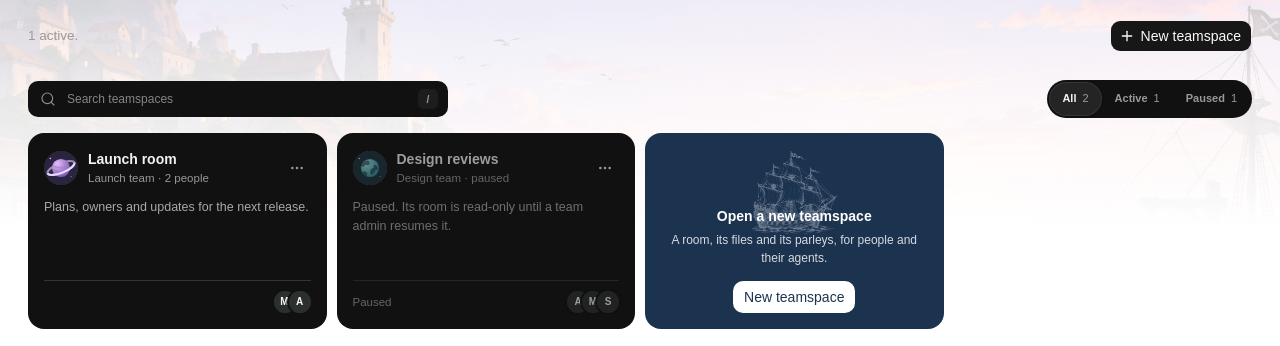
TeamspacesManagement list › offers pause and delete in the More menu only to who manages it
The width and height of the screenshot is (1280, 346).
Click the button named "More for Launch room" at x=296, y=168, box [282,154,310,182]
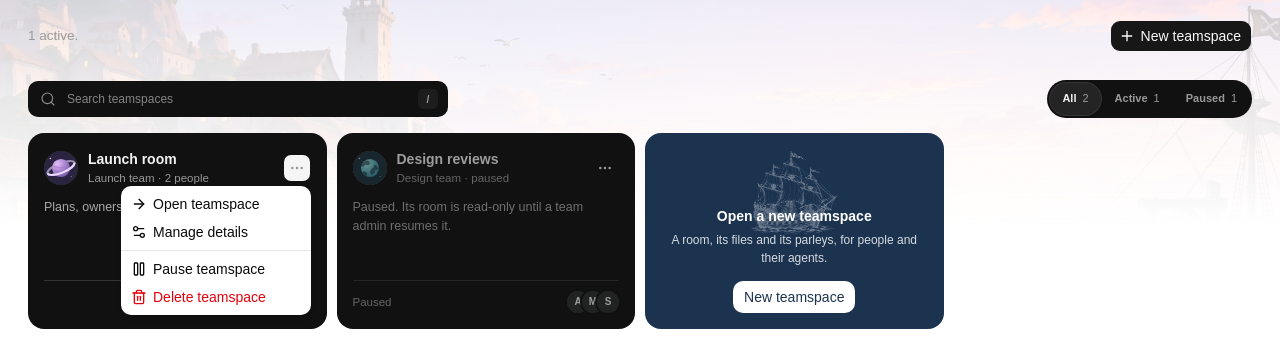
Expected: the menu items read "Open teamspace", "Manage details", "Pause teamspace", "Delete teamspace", in this order
Press Escape in the menu item "Open teamspace", box [131,196,260,212]
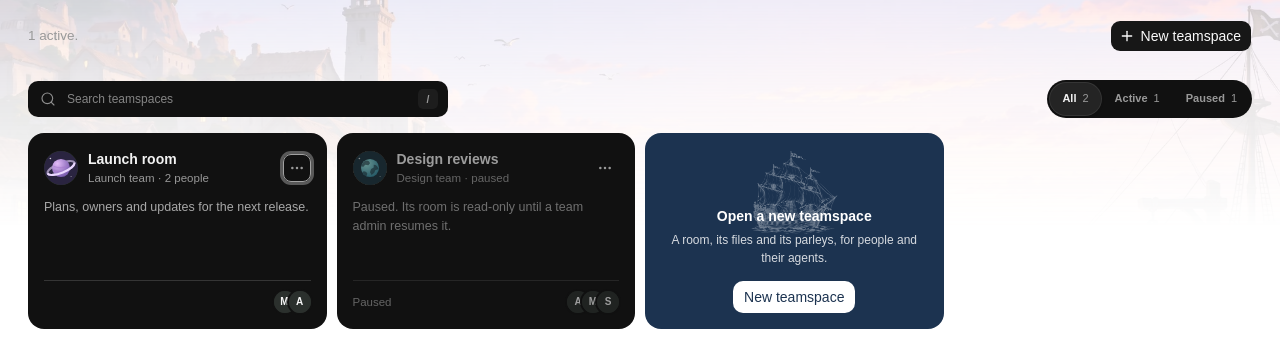
Expected: the menu is gone
Click the button named "More for Design reviews" at x=605, y=168, box [591,154,619,182]
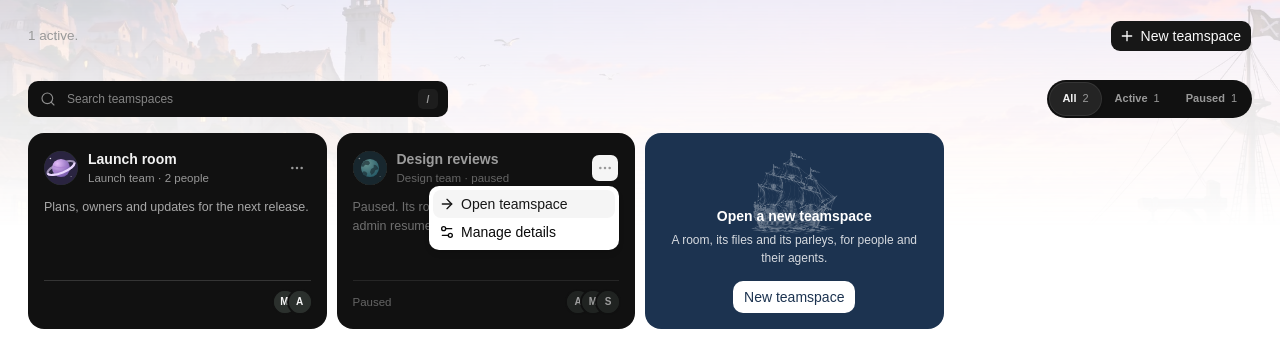
Expected: the menu items read "Open teamspace", "Manage details", in this order, [433,190,615,218]; [439,224,556,240]
